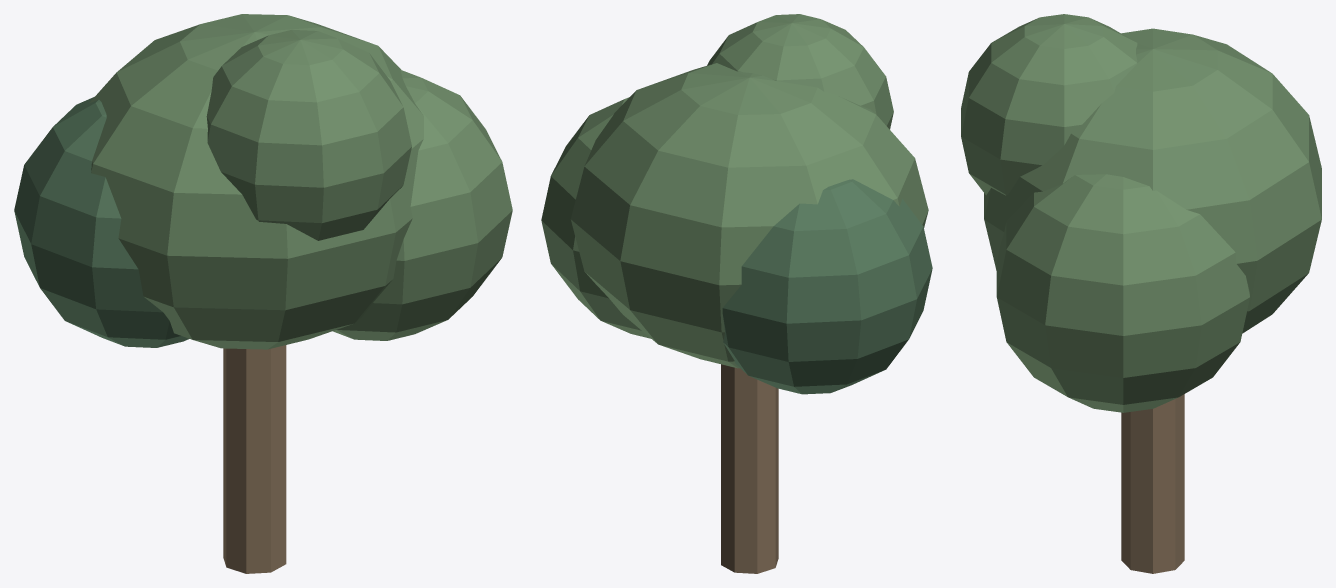
The model's file is oak.fbx.
3 renders of one model, left to right at view 1: azimuth 30°, elevation 25°; view 2: azimuth 150°, elevation 25°; view 3: azimuth 270°, elevation 25°, orthographic. The views are drawn at different scales.
Parts seen in each view (by area): view 1: oak; view 2: oak; view 3: oak.
Part boxes in pixels (x1=…): oak: x1=14, y1=14, x2=512, y2=573; oak: x1=541, y1=14, x2=932, y2=573; oak: x1=961, y1=14, x2=1321, y2=573.
Size of the model in its own units: 485 by 600 by 366.
